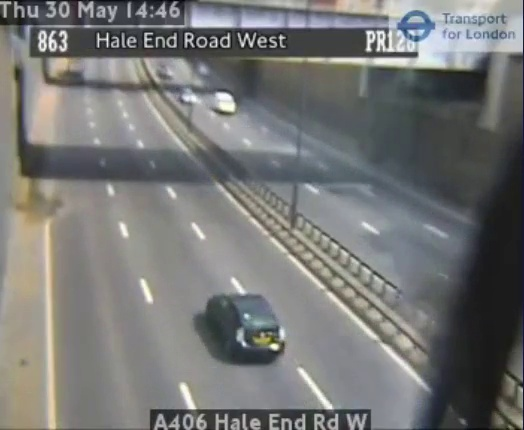car: (207, 294, 284, 361)
